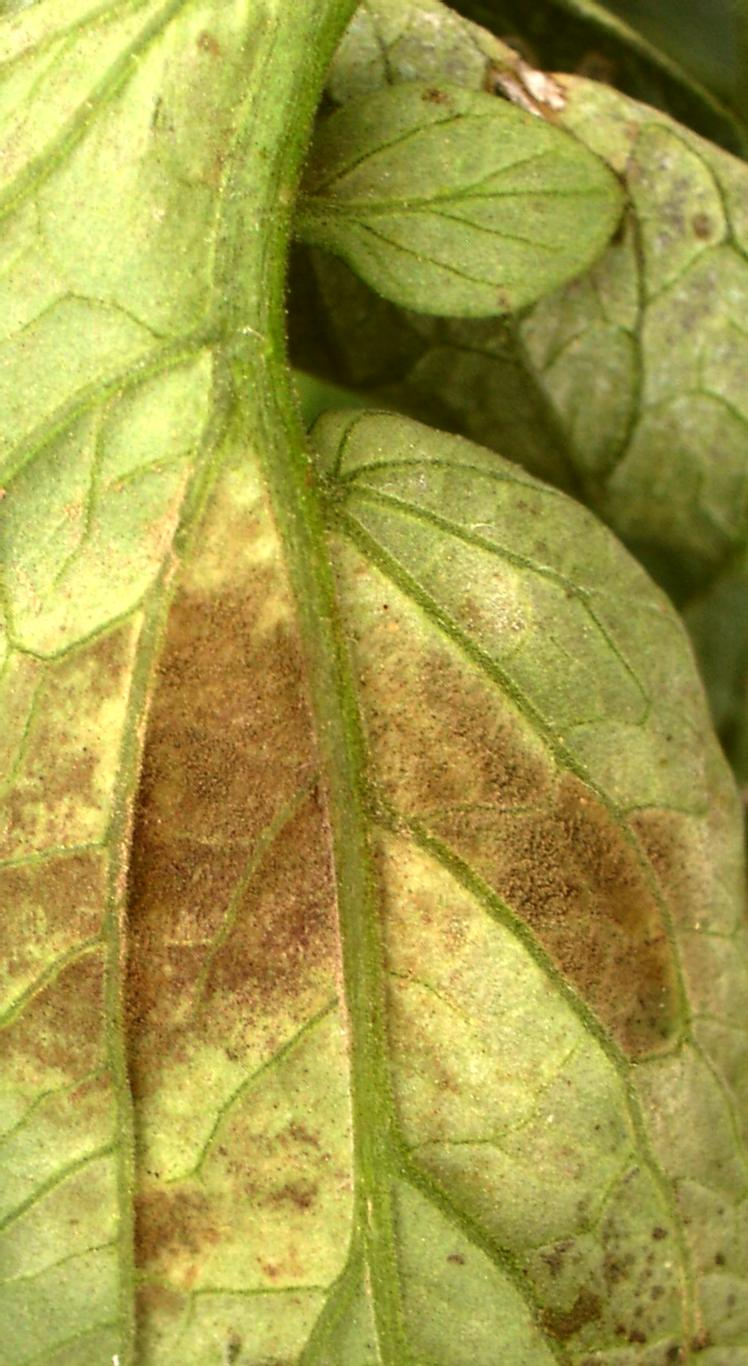Tomato mold leaf: (0, 18, 748, 1366), (380, 15, 748, 688)
